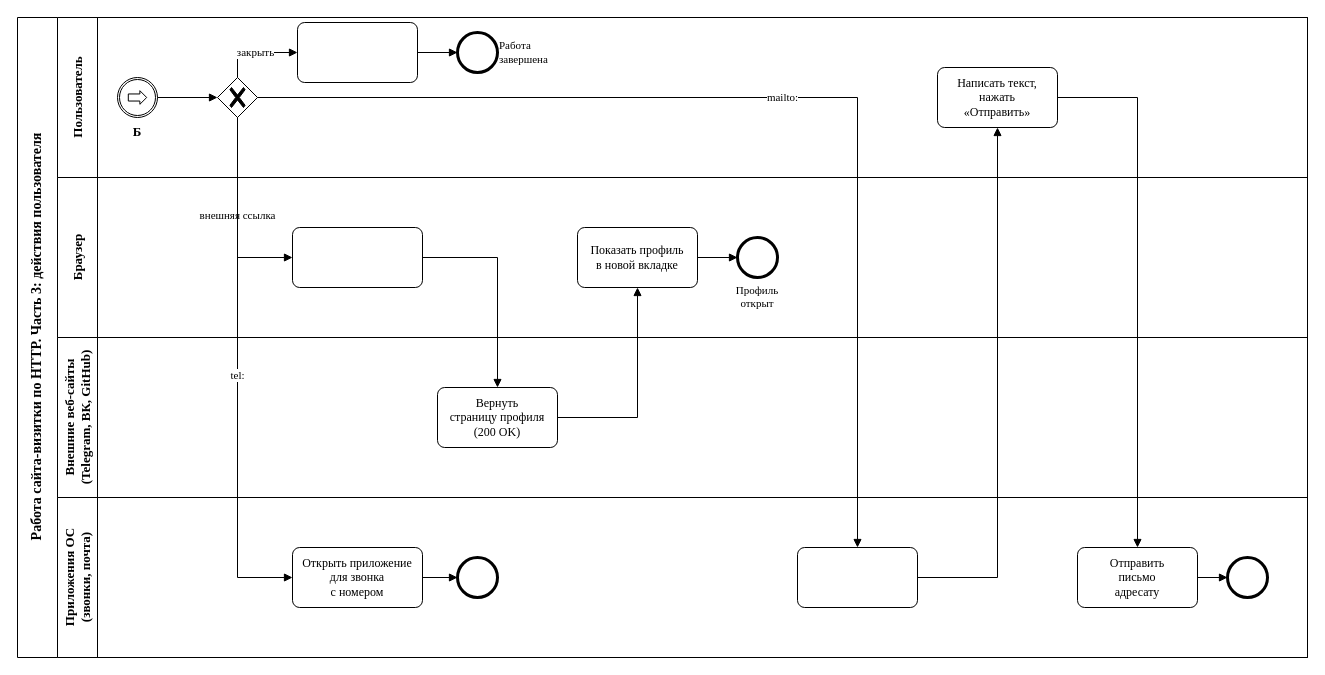
This 1325x675 diagram has some shape labels left out. Here are the shapes that lost their labels. From the top down, the box of each, then its label:
(296, 22, 418, 82): Закрыть вкладку
(216, 76, 258, 118): Действие?
(292, 226, 422, 288): Открыть новую вкладку, запрос GET к внешнему сайту
(456, 556, 498, 598): Звонок начат
(796, 546, 918, 608): Открыть письмо с адресом и темой
(1226, 556, 1268, 598): Письмо отправлено
